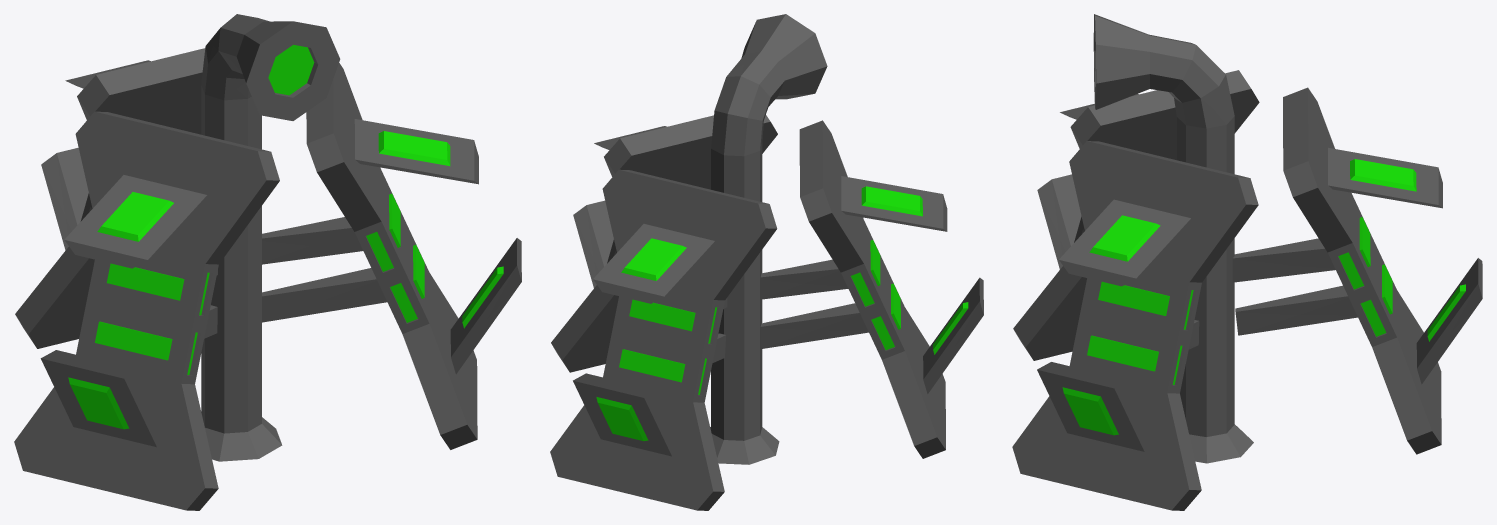
Rendered from flying_enemies_1.fbx.
3 views of the same model, side by side, from view 1: azimuth 30°, elevation 25°; view 2: azimuth 150°, elevation 25°; view 3: azimuth 270°, elevation 25° (orthographic). The views are drawn at different scales.
Visible parts, largest first — view 1: flying_enemies_1; view 2: flying_enemies_1; view 3: flying_enemies_1.
Part boxes in pixels (x1,y1,x2,y2): flying_enemies_1: (14,14,521,510); flying_enemies_1: (550,14,983,510); flying_enemies_1: (1012,14,1482,510).
Size of the model in its own units: 302 by 278 by 276.
